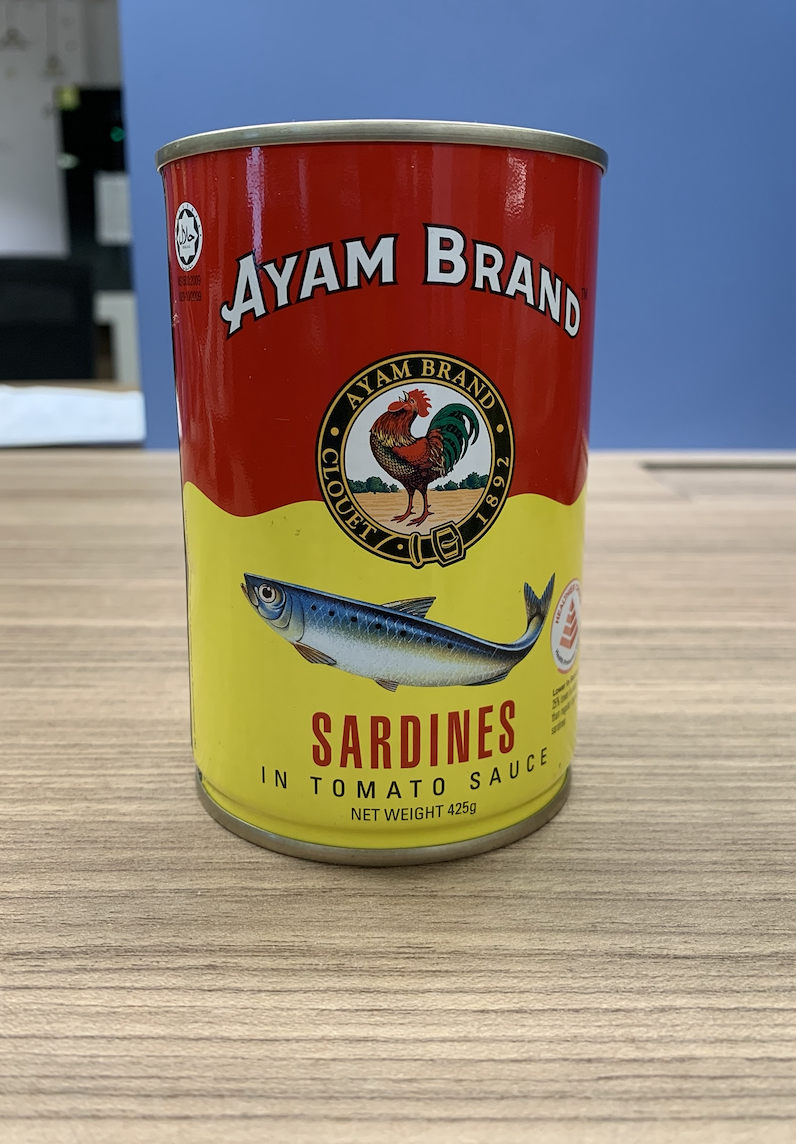sardines_400g-499g: (173, 163, 578, 827)
